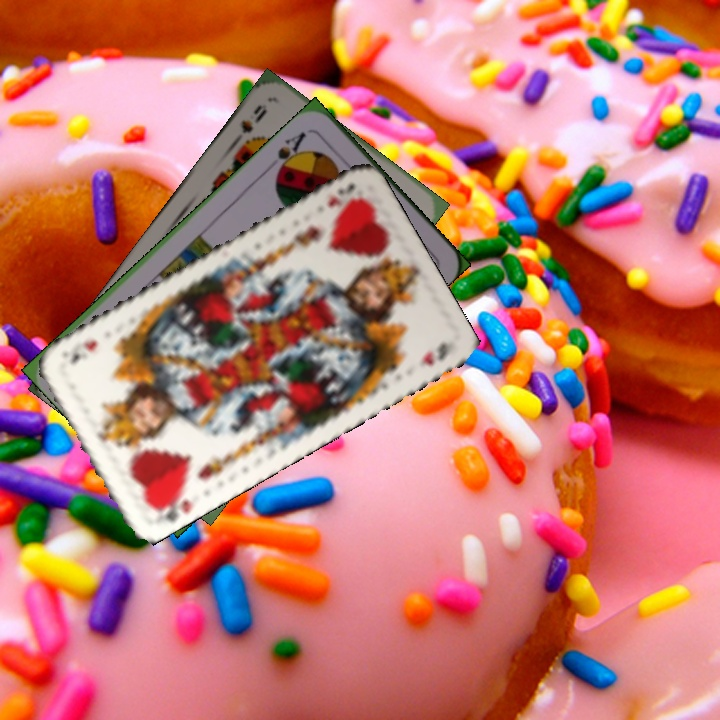HK: (148, 484, 195, 525), (324, 178, 364, 210)
S9: (228, 100, 270, 149)
SA: (272, 127, 309, 178)
